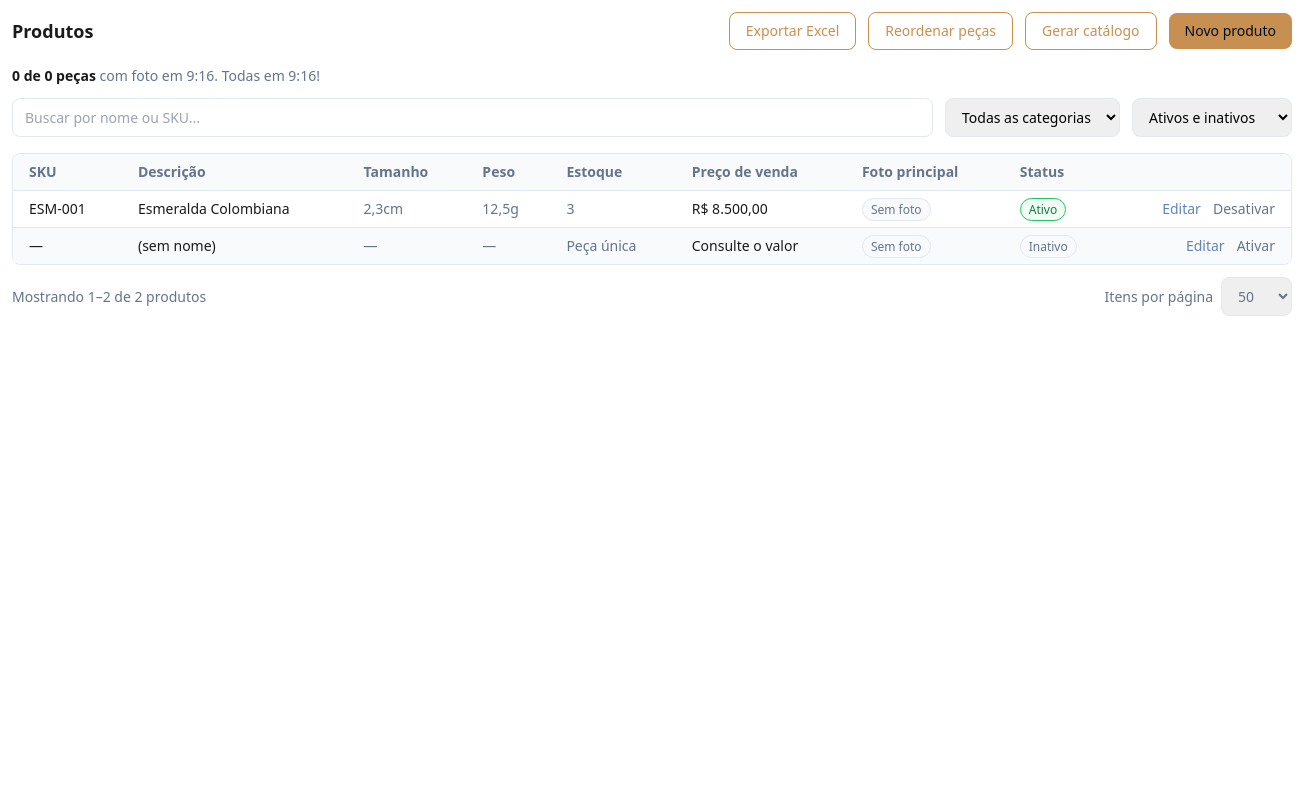
Scenario: ProductList › shows an error toast when the export fails
Expected: the text "Esmeralda Colombiana" is shown, [122, 190, 348, 228]
Click the button "Exportar Excel" at (792, 31), box [729, 12, 856, 50]
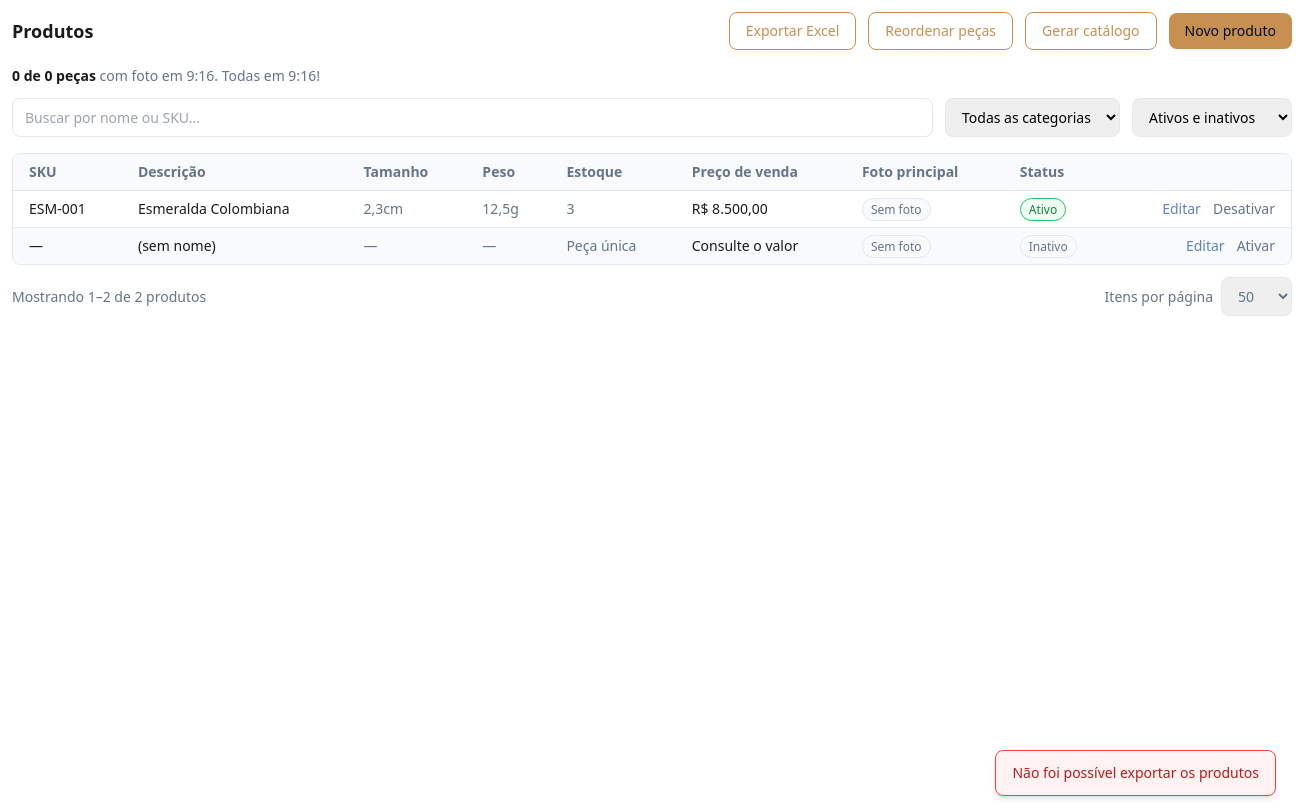
Result: the text "Não foi possível exportar os produtos" is shown at [995, 750, 1276, 796]
